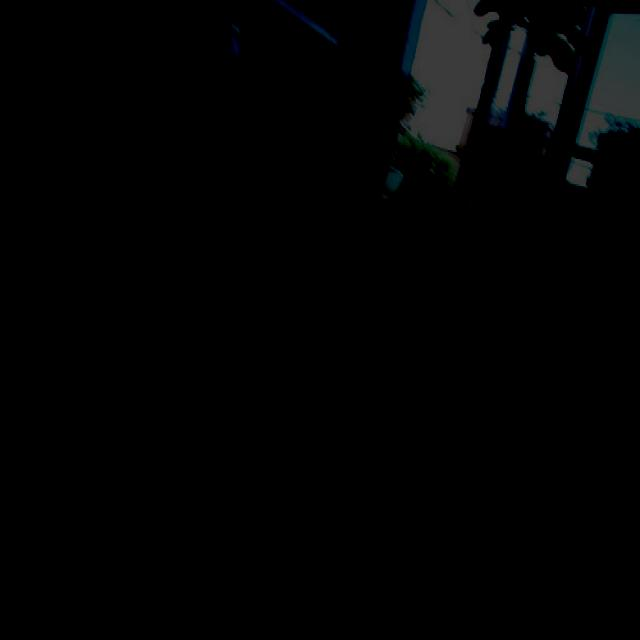Dog: (212, 212, 520, 635)
